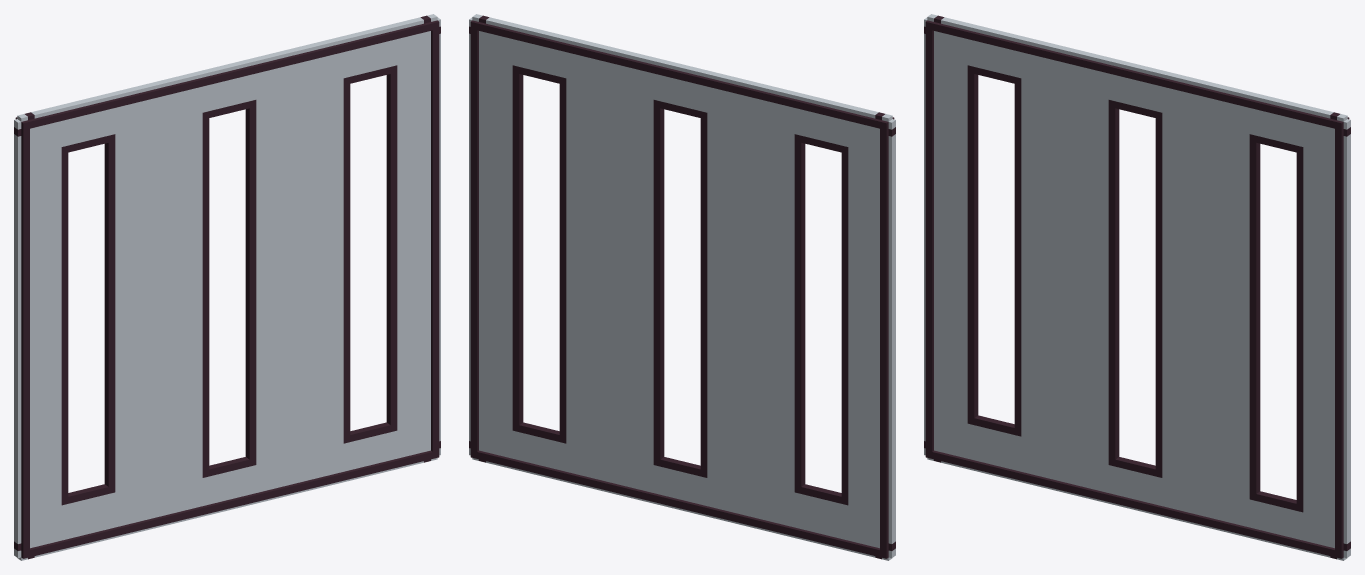
File: Chair Back.fbx
The picture shows the model from 3 angles, left to right: view 1: azimuth 30°, elevation 25°; view 2: azimuth 150°, elevation 25°; view 3: azimuth 330°, elevation 25°; orthographic projection.
Parts seen in each view (by area): view 1: generated; view 2: generated; view 3: generated.
Boxes of the visible parts, bbox=[...] form: generated: bbox=[14, 14, 440, 560]; generated: bbox=[469, 14, 895, 560]; generated: bbox=[924, 14, 1350, 560].
Bounding box in the file's own units: 2520 × 2520 × 80.
